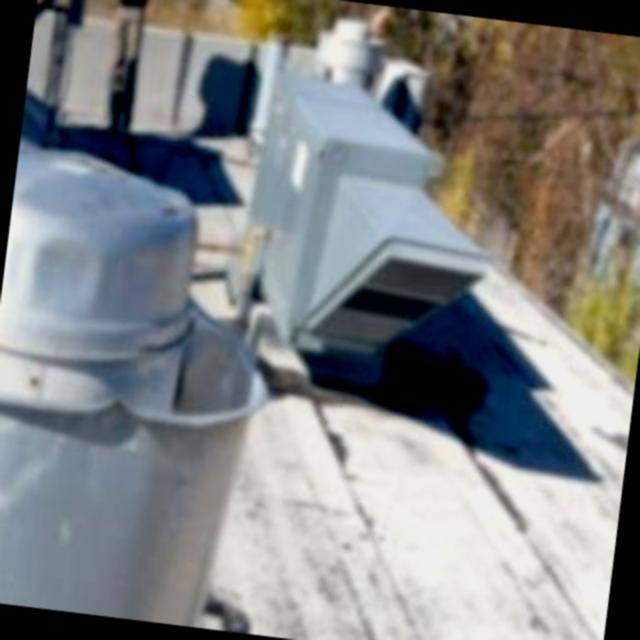GRAVITY-VENT: (0, 142, 289, 632), (310, 4, 398, 100)
RTU: (202, 57, 522, 416)
